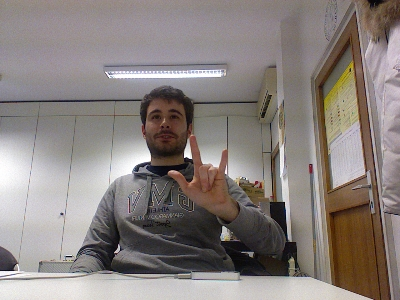我爱你: (166, 133, 231, 208)
